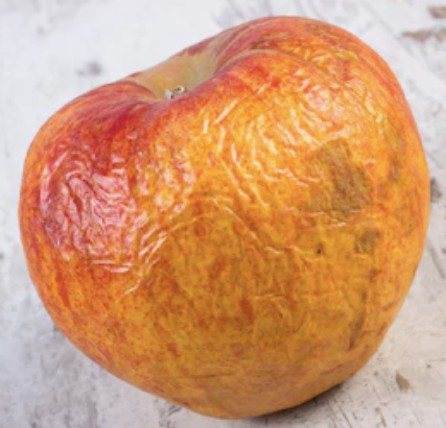rotten_apple: (20, 17, 431, 419)
